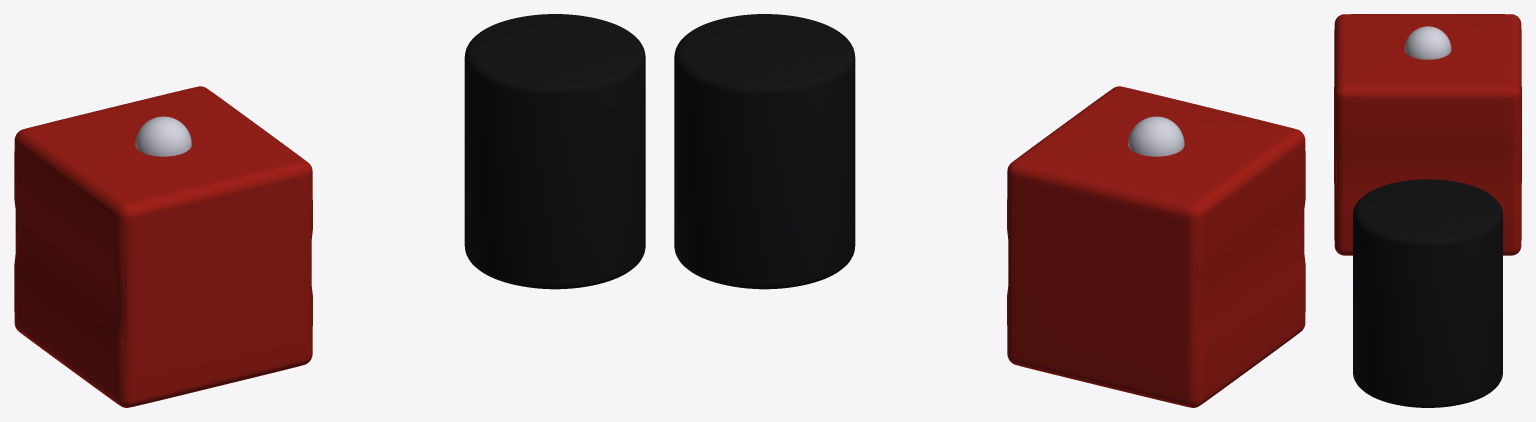
The model's file is props_high_cm_yup_aligned.obj.
3 views of the same model, side by side, from view 1: azimuth 30°, elevation 25°; view 2: azimuth 150°, elevation 25°; view 3: azimuth 270°, elevation 25° (orthographic). The views are drawn at different scales.
Visible parts, largest first — view 1: crate_high, pipe_high, crate_high1; view 2: crate_high, pipe_high, crate_high1; view 3: crate_high, pipe_high, crate_high1.
Part boxes in pixels (bbox=[...]): crate_high: bbox=[14, 86, 312, 407]; pipe_high: bbox=[464, 14, 645, 289]; crate_high1: bbox=[135, 116, 191, 156]; crate_high: bbox=[1007, 86, 1305, 407]; pipe_high: bbox=[674, 14, 855, 289]; crate_high1: bbox=[1128, 116, 1184, 156]; crate_high: bbox=[1334, 14, 1521, 255]; pipe_high: bbox=[1353, 179, 1502, 407]; crate_high1: bbox=[1404, 26, 1451, 59].
Size of the model in its own units: 5.8 by 2.25 by 2.
